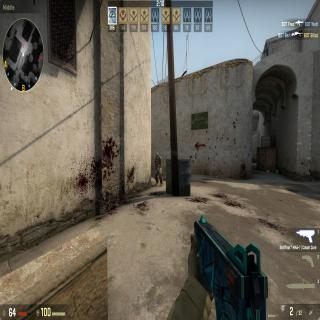T-Body: (154, 152, 162, 186)
T-Head: (155, 152, 160, 159)
